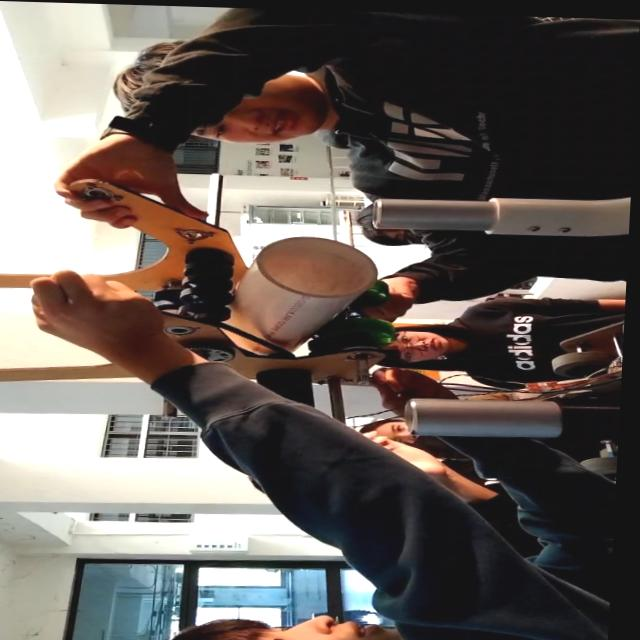CORAL: (200, 231, 387, 357)
